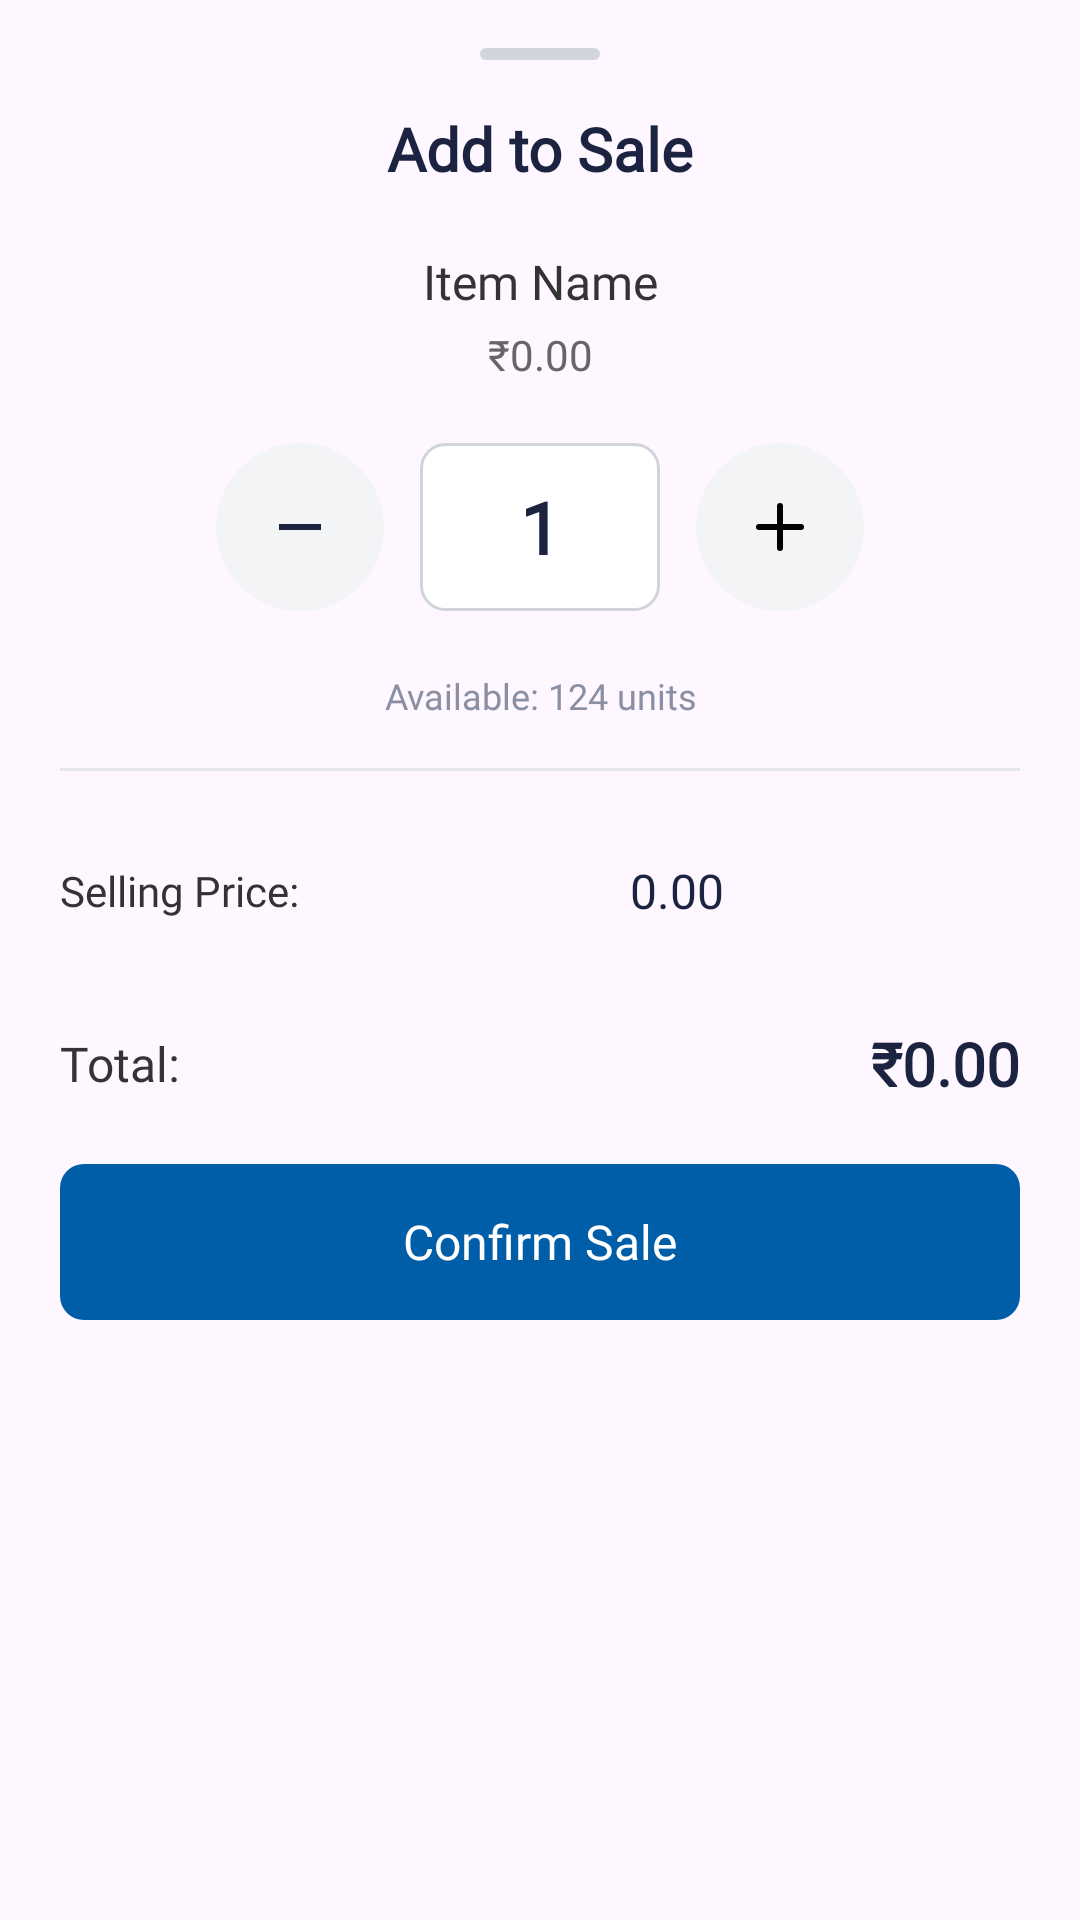

Locate icon controls on the screen. Image size 1080 × 1920, boxes as (x1, y1, x2, y2).
Increase Quantity: (696, 443, 864, 611)
